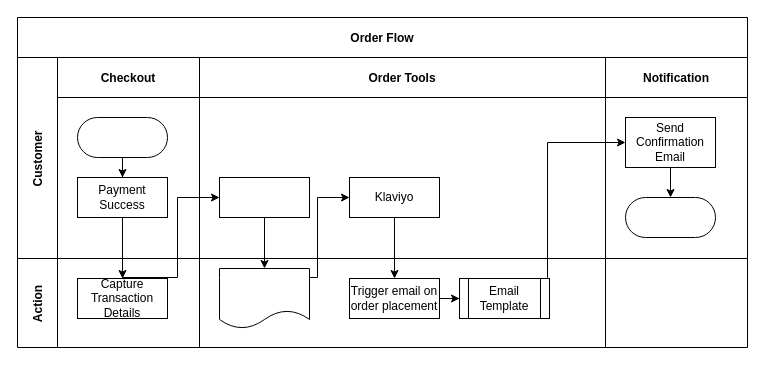
The diagram is 765 pixels wide and 365 high, and some of its shapes have lost their labels. Here are the shapes that lost their labels. From the top down, the box of each, then its label:
(76, 116, 168, 158): Start
(218, 176, 310, 218): Order Desk
(624, 196, 716, 238): End
(218, 268, 310, 328): Store order related info
